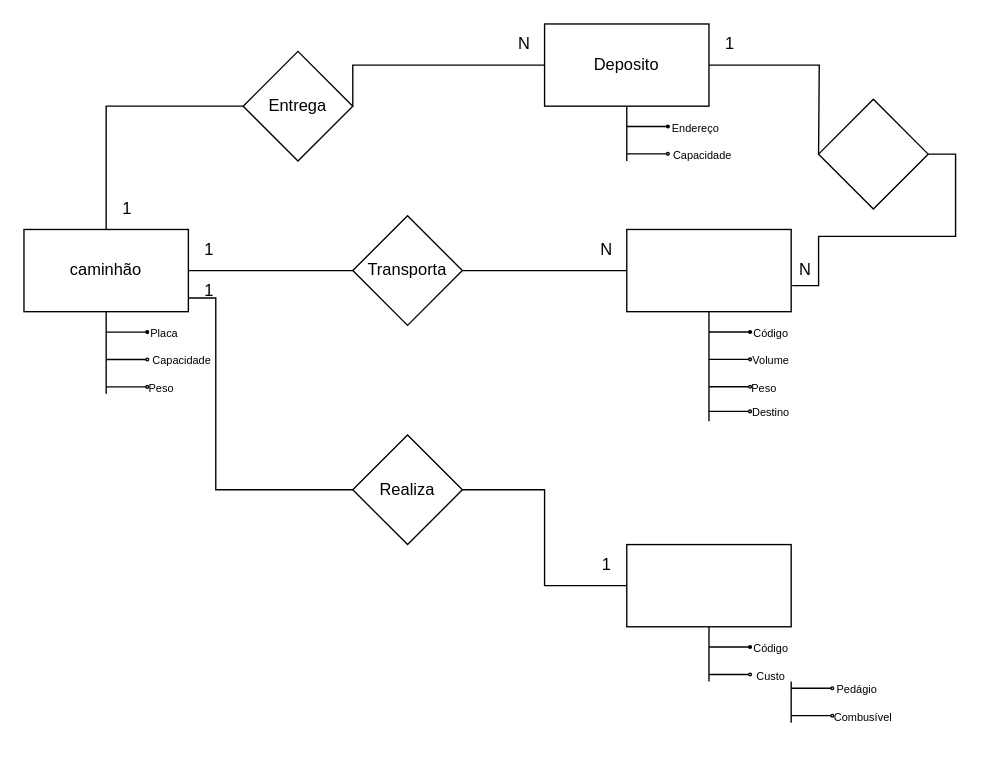
This 981x760 diagram has some shape labels left out. The shapes that lost their labels are listed below. From the top down, each one's box as (x1, y1, x2, y2) in pixels, then its label:
(817, 98, 928, 209): Armazena
(625, 228, 791, 312): Mercadoria
(625, 543, 791, 627): Viagem
